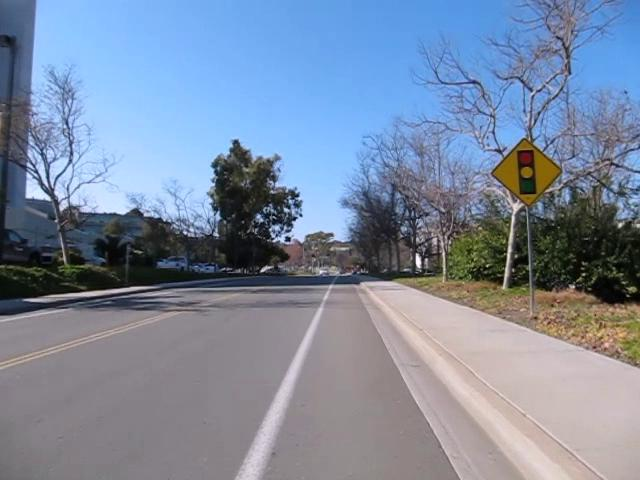signalAhead: (490, 136, 562, 208)
